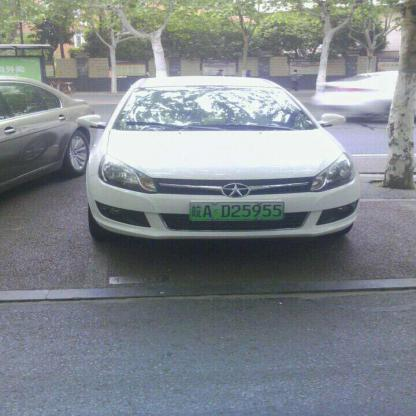lp: (190, 201, 283, 219)
